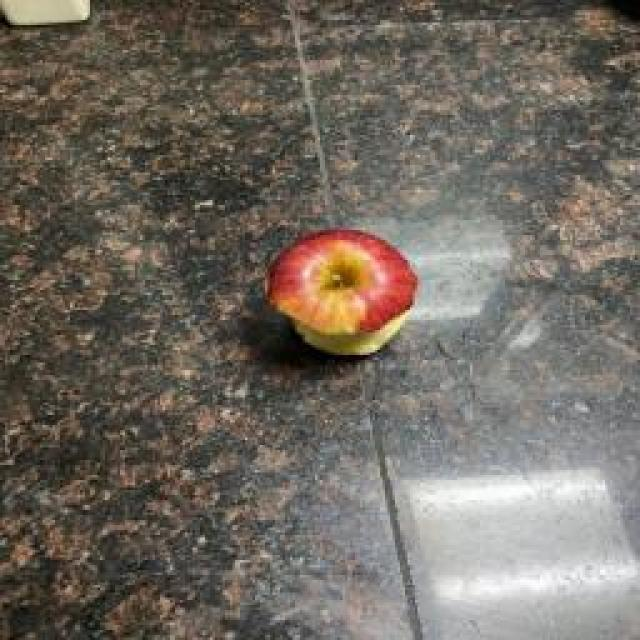Apple: (268, 229, 418, 355)
